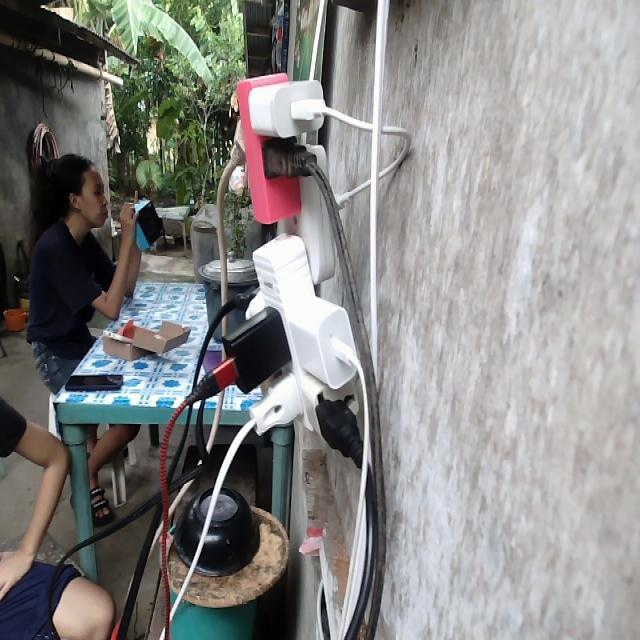-: (224, 69, 368, 432)
